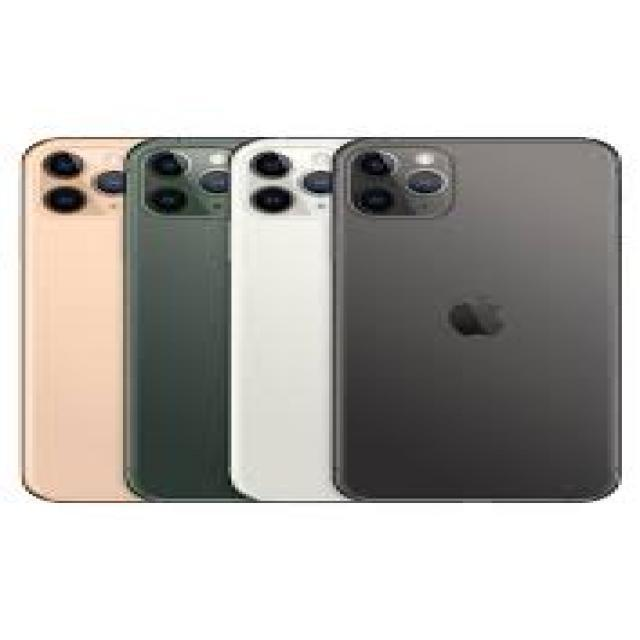phone: (337, 134, 625, 509)
